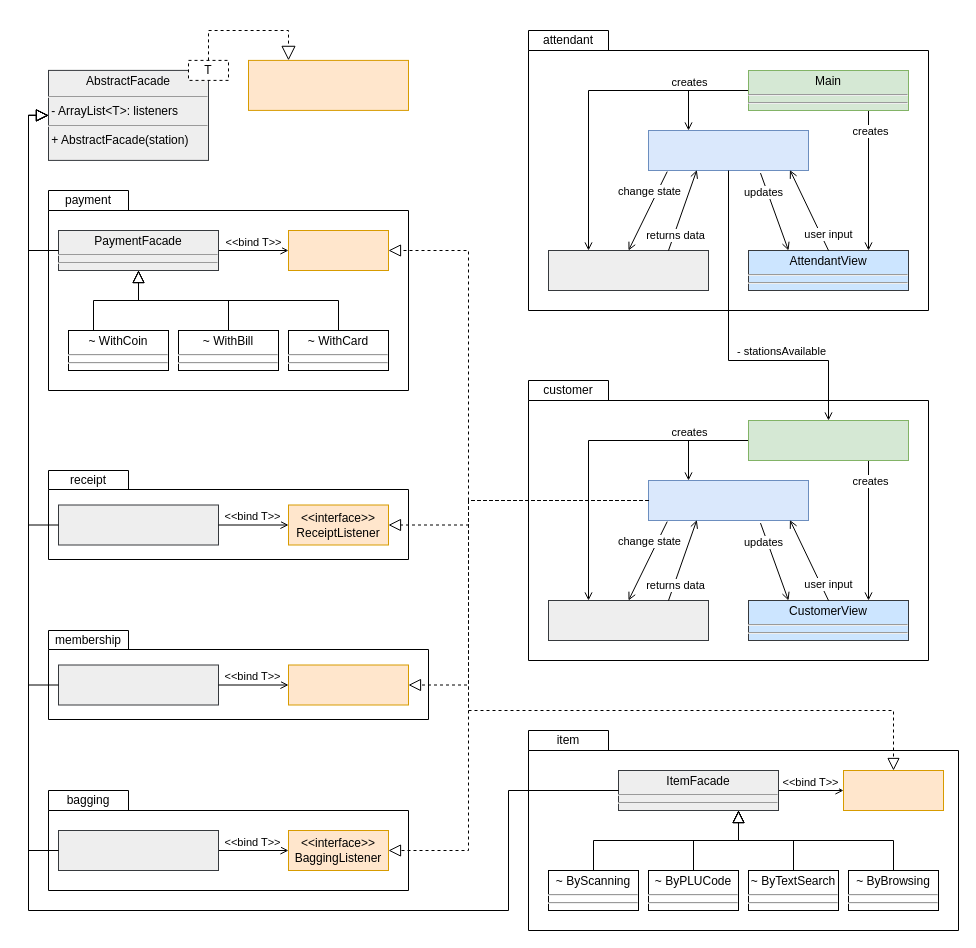
The diagram is 976 pixels wide and 948 high, and some of its shapes have lost their labels. Here are the shapes that lost their labels. From the top down, the centre of each, then its label:
the point at 328,84: <<interface>> AbstractListener
the point at 728,150: AttendantController
the point at 338,250: <<interface>> PaymentListener
the point at 628,270: AttendantModel
the point at 828,440: CustomerStation
the point at 728,500: CustomerController
the point at 138,524: ReceiptFacade
the point at 628,620: CustomerModel
the point at 138,684: MembershipFacade
the point at 348,684: <<interface>> MembershipListener
the point at 893,790: <<interface>> ItemListener
the point at 138,850: BaggingFacade
